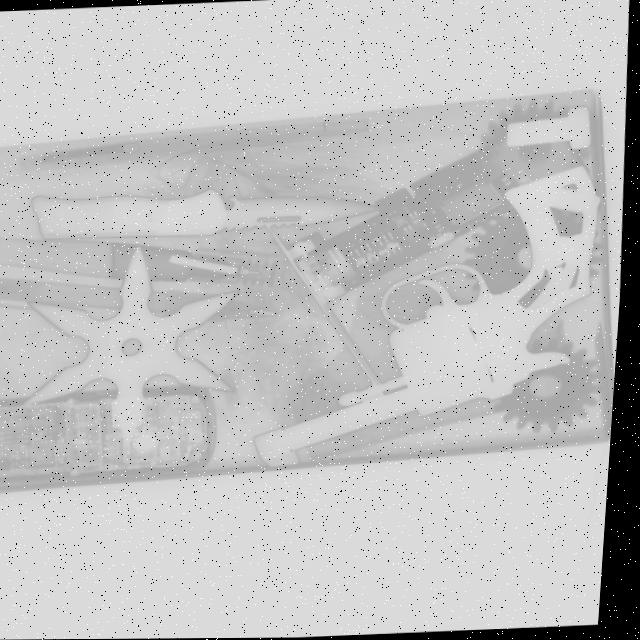knife: (26, 176, 388, 246)
pistol: (244, 164, 614, 470)
